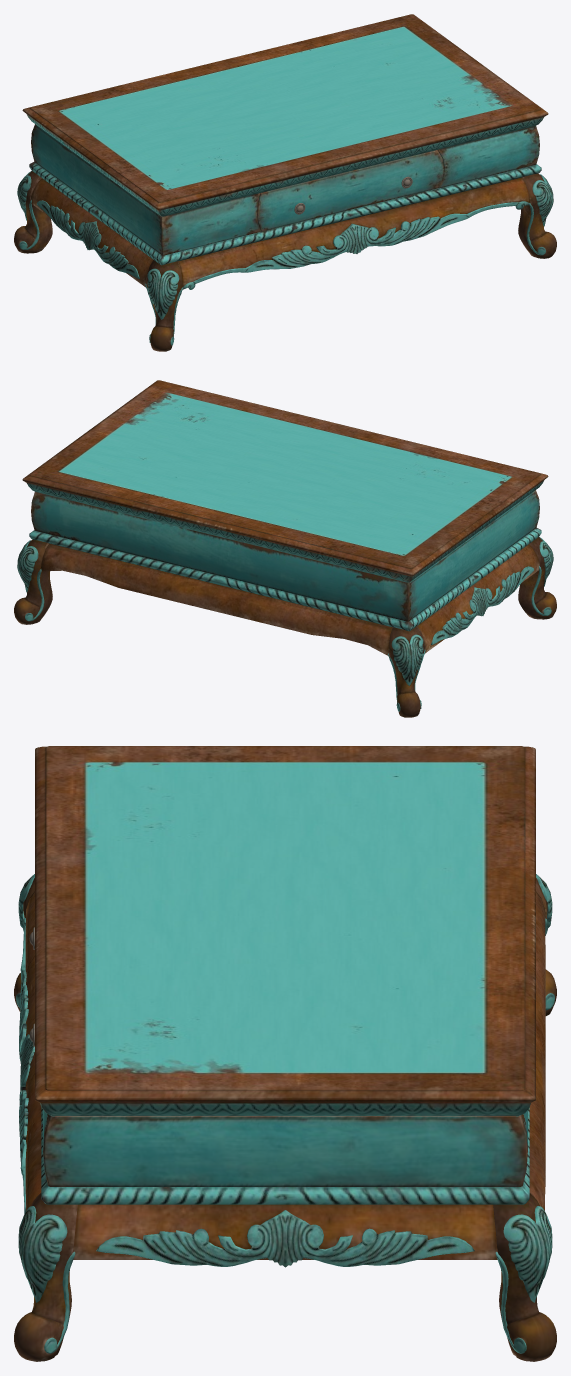
Rendered from CoffeeTable_01_withoutVertexColor.gltf.
The picture shows the model from 3 angles, top to bottom: view 1: azimuth 30°, elevation 25°; view 2: azimuth 150°, elevation 25°; view 3: azimuth 270°, elevation 25°; orthographic projection. The views are drawn at different scales.
Visible parts, largest first — view 1: CoffeeTable_01; view 2: CoffeeTable_01; view 3: CoffeeTable_01.
Boxes of the visible parts, bbox=[...] form: CoffeeTable_01: bbox=[14, 14, 556, 351]; CoffeeTable_01: bbox=[14, 380, 556, 717]; CoffeeTable_01: bbox=[14, 746, 556, 1361].
Bounding box in the file's own units: 1.54 × 0.5232 × 0.9728.
1 material, 1 textured.
